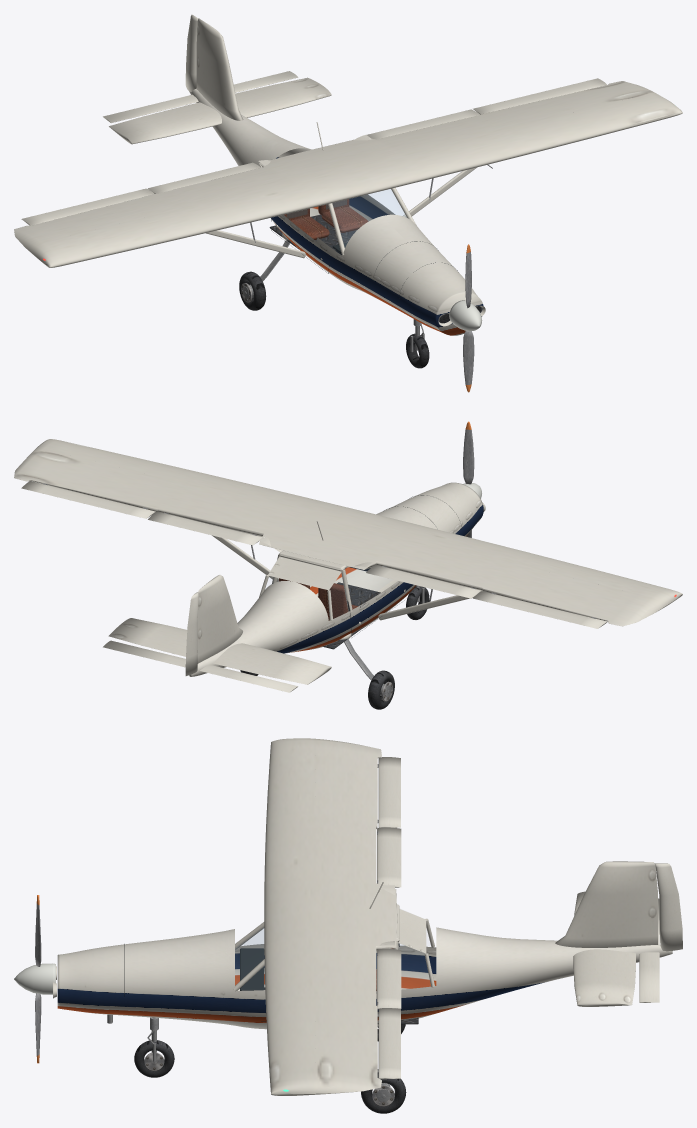
The model's file is aircraft.glb.
The picture shows the model from 3 angles, top to bottom: view 1: azimuth 30°, elevation 25°; view 2: azimuth 150°, elevation 25°; view 3: azimuth 270°, elevation 25°; orthographic projection. The views are drawn at different scales.
Parts seen in each view (by area): view 1: AircraftRoot Tile 03 Riveted wing skin, Smooth formed fuselage with open cabin, AircraftRoot Tile 16 Faint glass smudges, AircraftRoot Tile 10 Stitched tobacco leather, Elevator, AircraftRoot Tile 07 Rubber tyre tread, AileronLeft, AileronRight, PropellerAssembly Tile 05 Riveted aluminium, FlapLeft, FlapRight, Rudder (+1 smaller); view 2: AircraftRoot Tile 03 Riveted wing skin, Smooth formed fuselage with open cabin, Elevator, AileronLeft, AileronRight, FlapLeft, FlapRight, AircraftRoot Tile 07 Rubber tyre tread, Rudder, AircraftRoot Tile 10 Stitched tobacco leather, PropellerAssembly Tile 05 Riveted aluminium, Exterior footwell floor (+1 smaller); view 3: AircraftRoot Tile 03 Riveted wing skin, Smooth formed fuselage with open cabin, Rudder, AircraftRoot Tile 07 Rubber tyre tread, AileronRight, AileronLeft, FlapRight, FlapLeft, Elevator, AircraftRoot Tile 16 Faint glass smudges, Formed ivory spinner, AircraftRoot charcoal (+1 smaller).
Part boxes in pixels (x1,y1,x2,y2): AircraftRoot Tile 03 Riveted wing skin: [14, 18, 682, 326]; Smooth formed fuselage with open cabin: [189, 88, 483, 335]; AircraftRoot Tile 16 Faint glass smudges: [333, 189, 406, 246]; AircraftRoot Tile 10 Stitched tobacco leather: [284, 199, 368, 239]; Elevator: [103, 71, 298, 122]; AircraftRoot Tile 07 Rubber tyre tread: [239, 271, 429, 368]; AileronLeft: [21, 188, 154, 225]; AileronRight: [473, 78, 606, 114]; PropellerAssembly Tile 05 Riveted aluminium: [463, 244, 474, 392]; FlapLeft: [148, 162, 260, 193]; FlapRight: [367, 109, 479, 139]; Rudder: [185, 14, 197, 92]; AircraftRoot Tile 03 Riveted wing skin: [14, 439, 682, 684]; Smooth formed fuselage with open cabin: [189, 482, 483, 676]; Elevator: [103, 640, 297, 692]; AileronLeft: [473, 591, 607, 628]; AileronRight: [21, 481, 155, 518]; FlapLeft: [366, 565, 481, 598]; FlapRight: [148, 511, 261, 545]; AircraftRoot Tile 07 Rubber tyre tread: [240, 586, 429, 709]; Rudder: [185, 592, 198, 675]; AircraftRoot Tile 10 Stitched tobacco leather: [279, 578, 357, 620]; PropellerAssembly Tile 05 Riveted aluminium: [463, 421, 474, 537]; Exterior footwell floor: [323, 582, 380, 649]; AircraftRoot Tile 03 Riveted wing skin: [53, 738, 657, 1095]; Smooth formed fuselage with open cabin: [57, 927, 672, 1029]; Rudder: [654, 863, 682, 951]; AircraftRoot Tile 07 Rubber tyre tread: [134, 1024, 406, 1113]; AileronRight: [378, 1008, 400, 1079]; AileronLeft: [378, 757, 400, 827]; FlapRight: [377, 948, 401, 1009]; FlapLeft: [377, 827, 401, 887]; Elevator: [639, 898, 659, 1002]; AircraftRoot Tile 16 Faint glass smudges: [235, 927, 403, 984]; Formed ivory spinner: [14, 963, 55, 994]; AircraftRoot charcoal: [124, 944, 378, 1021].
Bounding box in the file's own units: 10.32 × 2.94 × 8.29.
21 materials, 16 textured.
